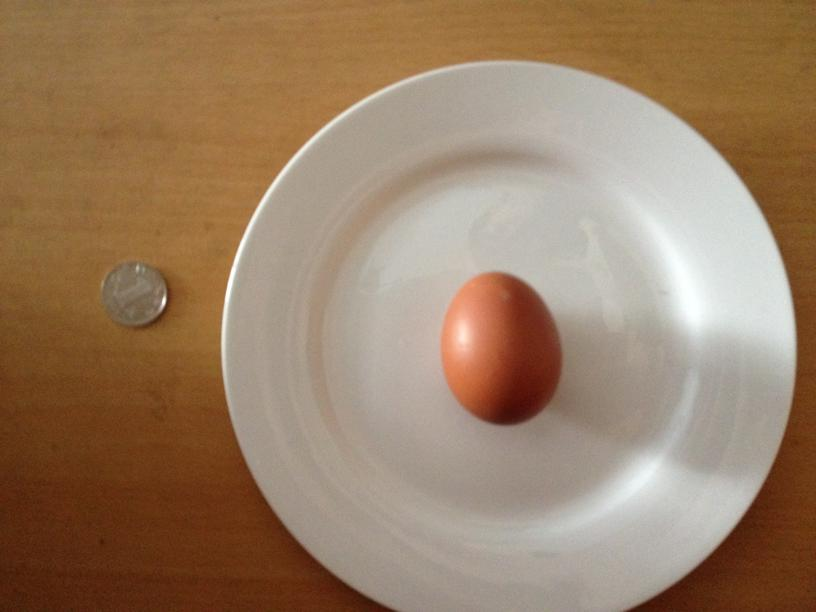coin: (99, 258, 169, 328)
egg: (440, 272, 562, 425)
